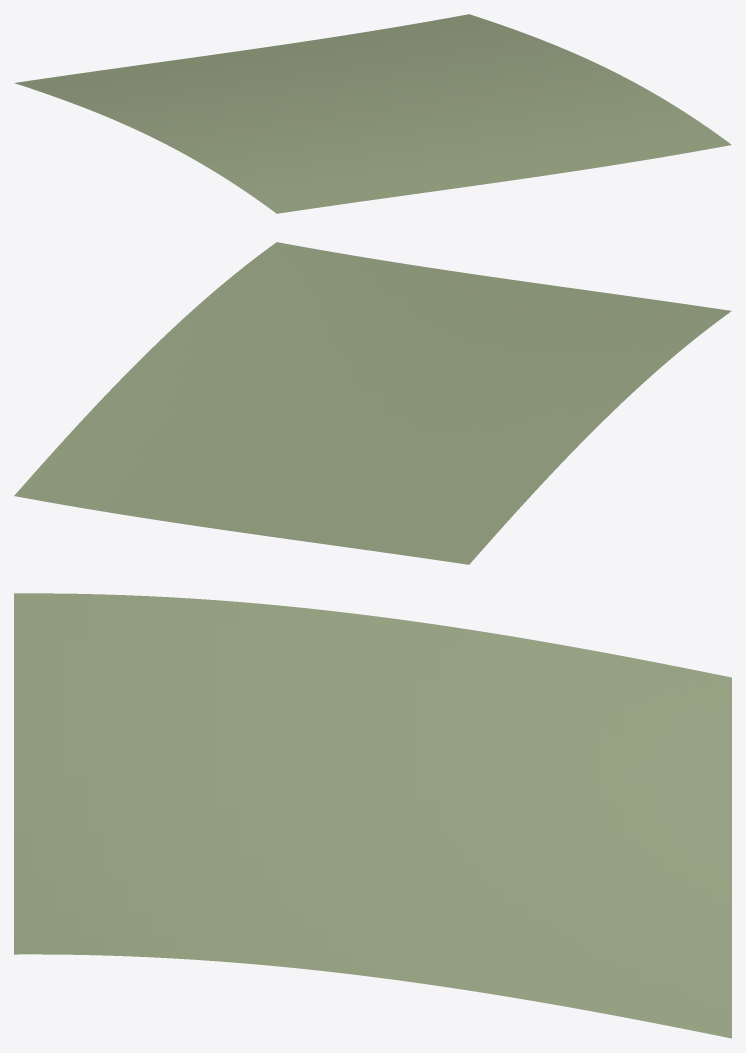
File: valley-3-0.glb
3 views of the same model, one above another, from view 1: azimuth 30°, elevation 25°; view 2: azimuth 150°, elevation 25°; view 3: azimuth 270°, elevation 25° (orthographic). The views are drawn at different scales.
Visible parts, largest first — view 1: valley-3-0; view 2: valley-3-0; view 3: valley-3-0.
Boxes of the visible parts, <box> form: valley-3-0: <box>14,14,731,213</box>; valley-3-0: <box>14,242,731,564</box>; valley-3-0: <box>14,593,731,1038</box>.
Size of the model in its own units: 256 by 55.78 by 256.
